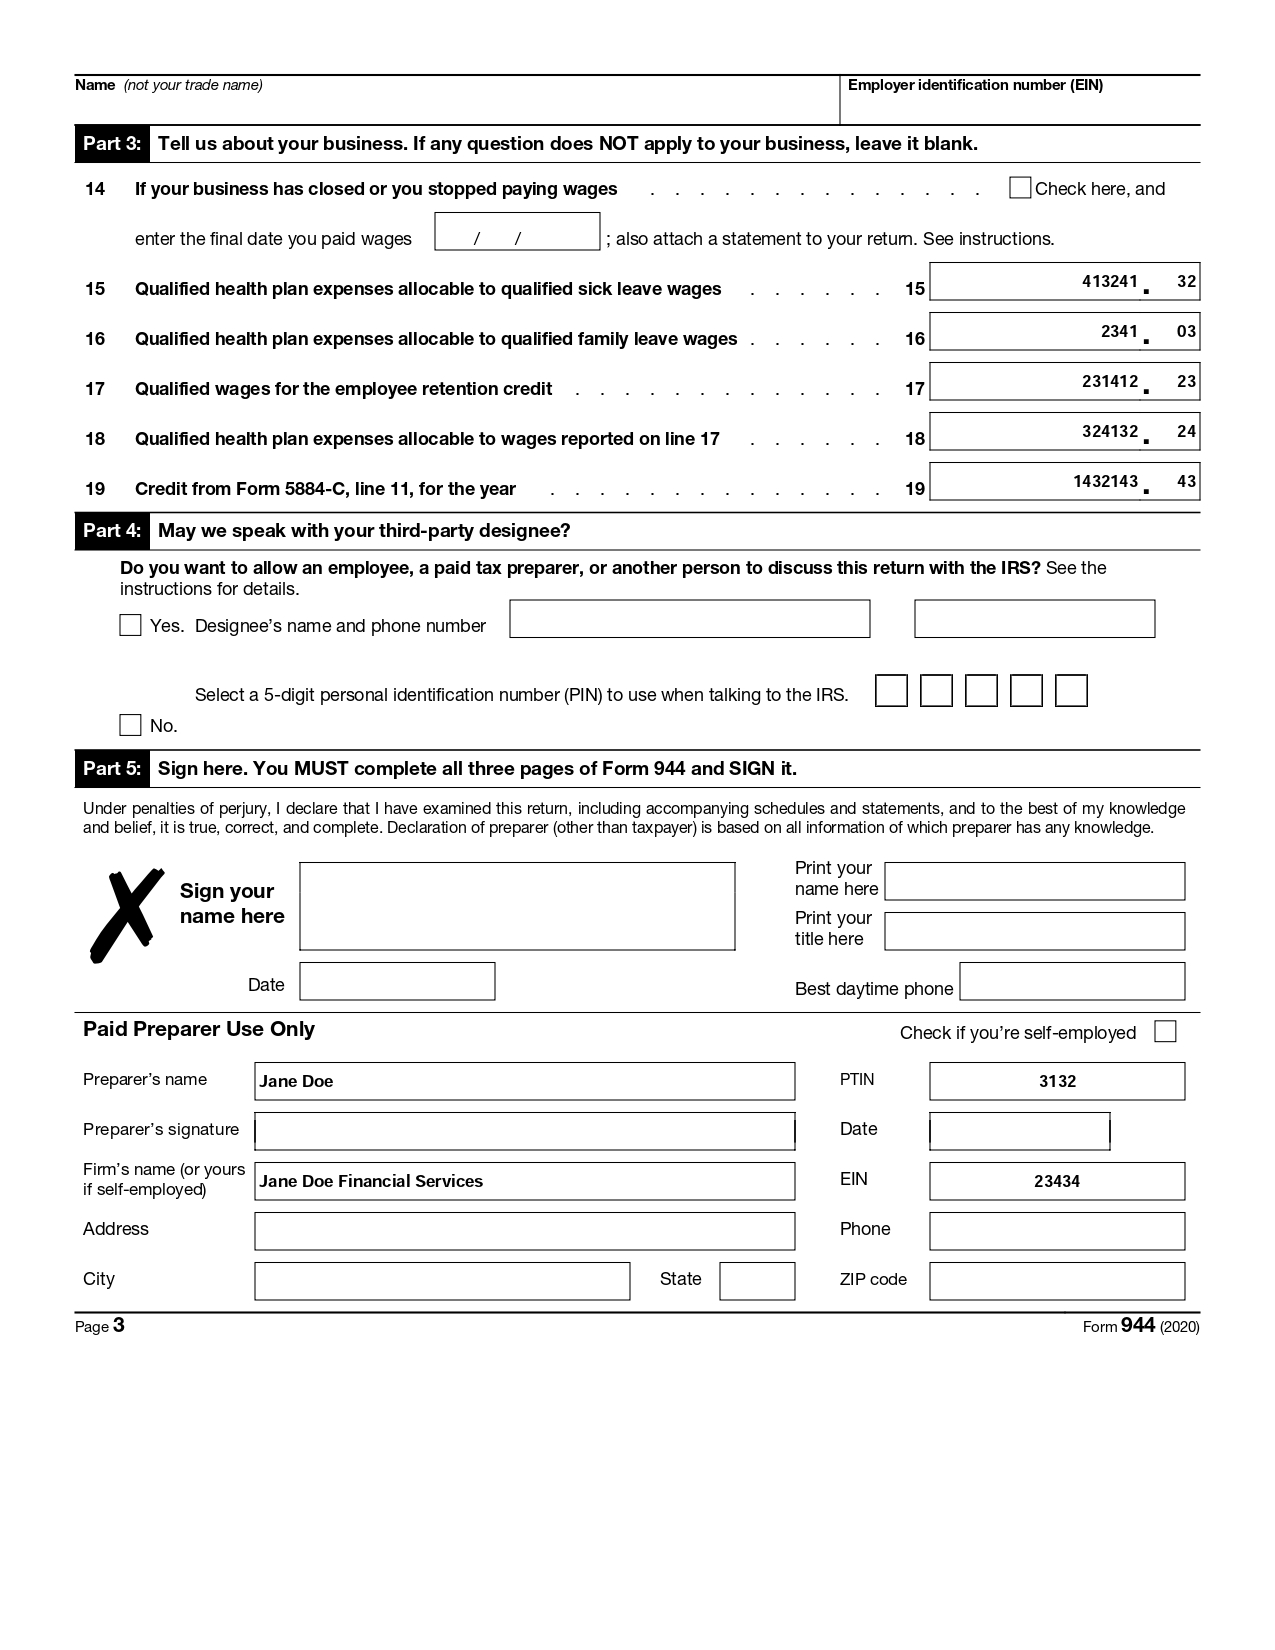form: (69, 845, 1200, 1307), (66, 558, 1213, 743)
table: (60, 169, 1215, 510)
